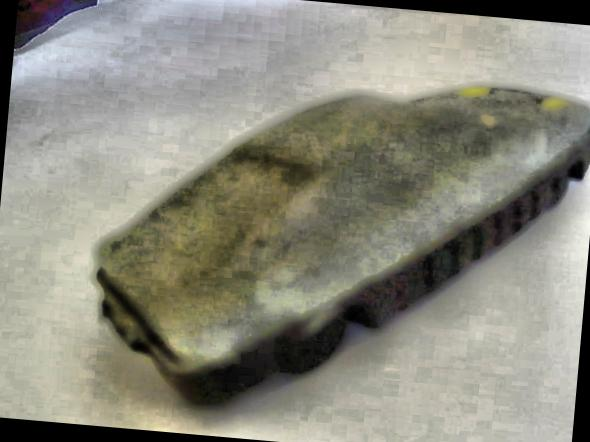normal_car: (84, 52, 590, 442)
